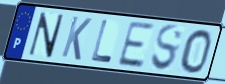E: (115, 20, 156, 70)
K: (59, 14, 93, 62)
L: (90, 19, 114, 65)
N: (26, 11, 66, 60)
O: (179, 28, 213, 75)
S: (149, 23, 184, 74)
